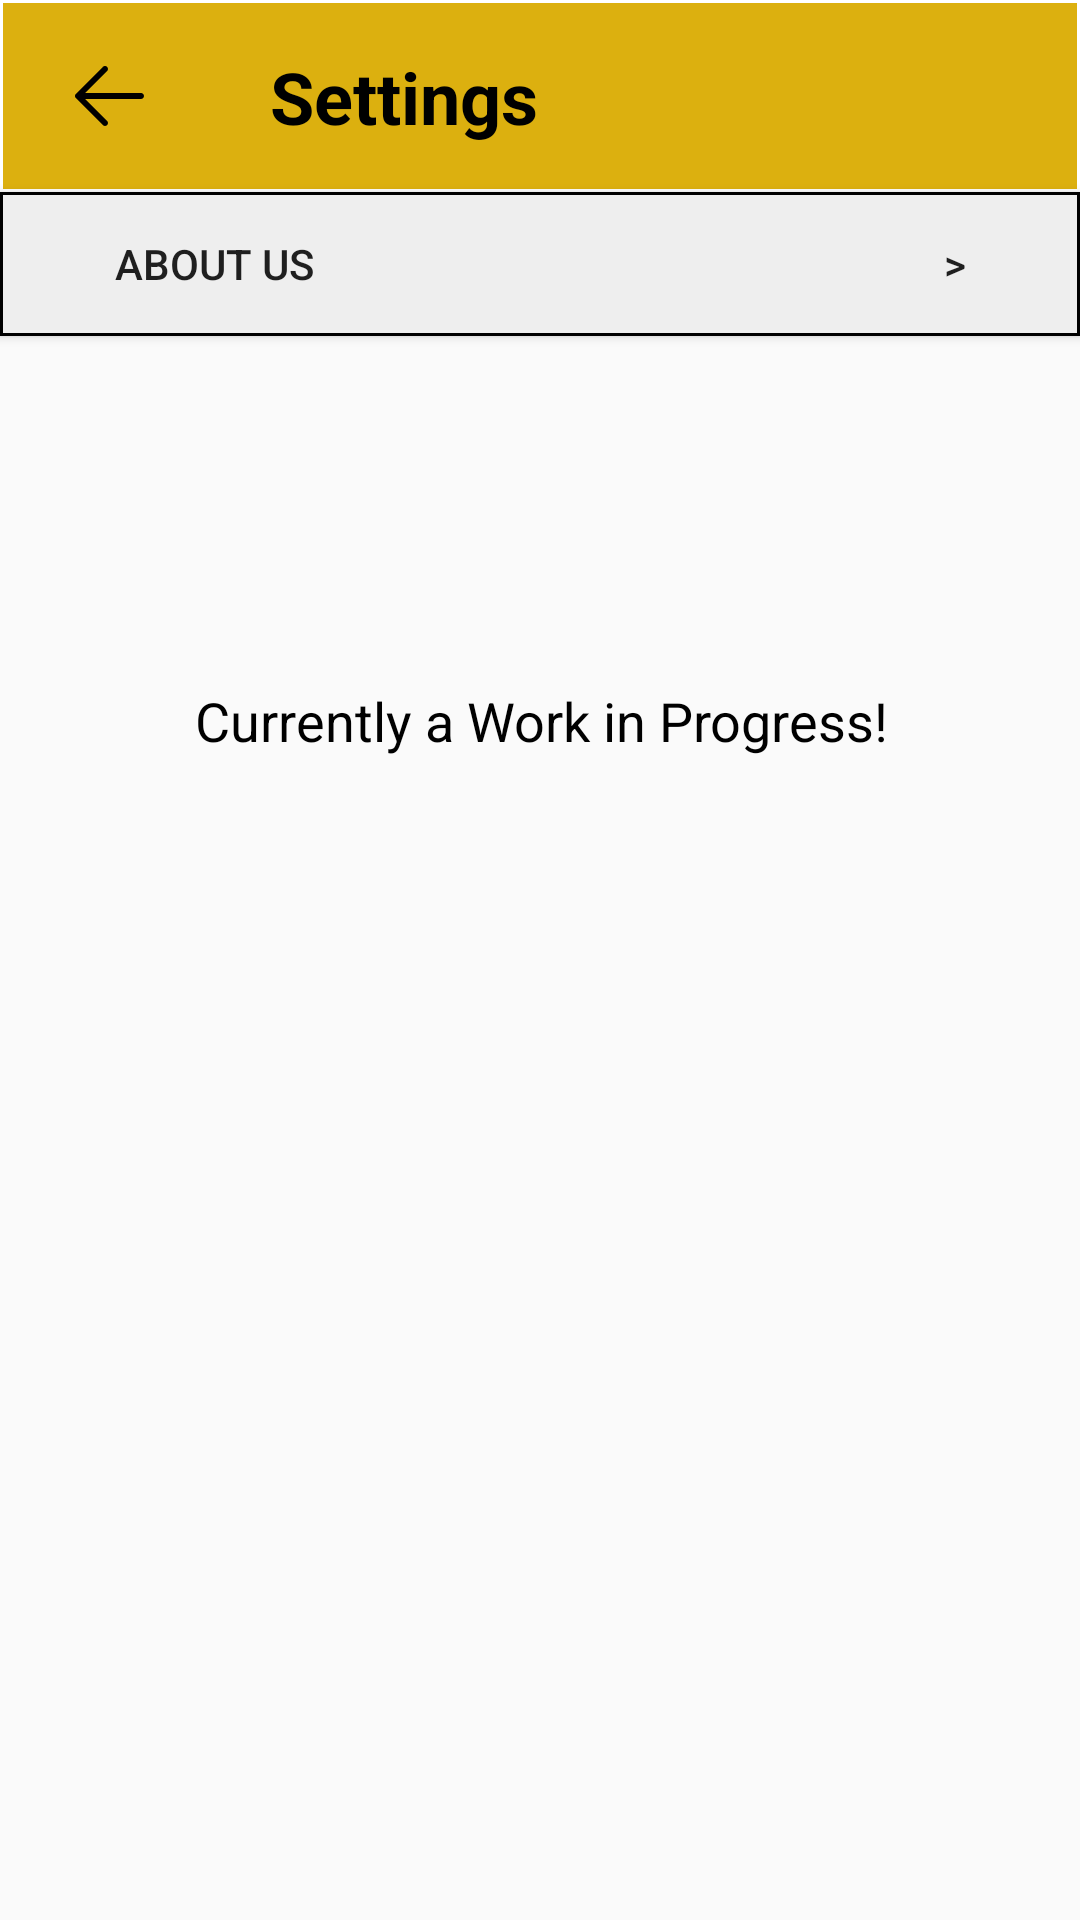

Where to tap for icons on this 1080px×1920px app screen, as (x=x, y=y):
Back: (x=108, y=96)
